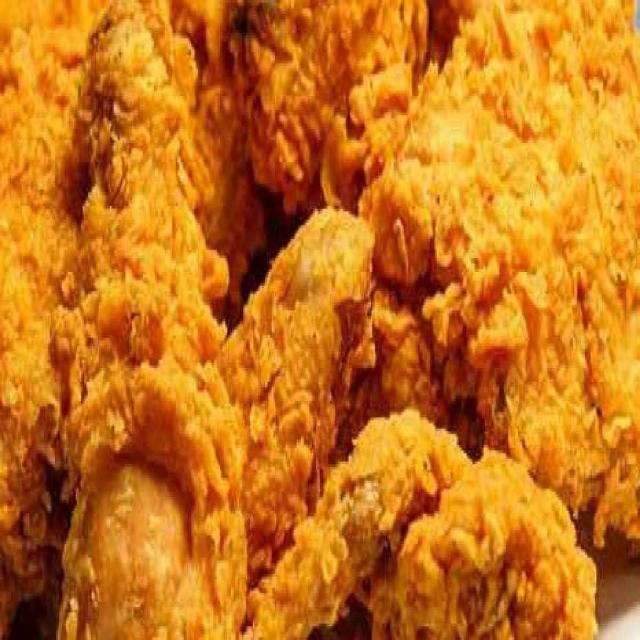Chicken -Fried Chicken-: (61, 4, 248, 640), (365, 13, 640, 373)
